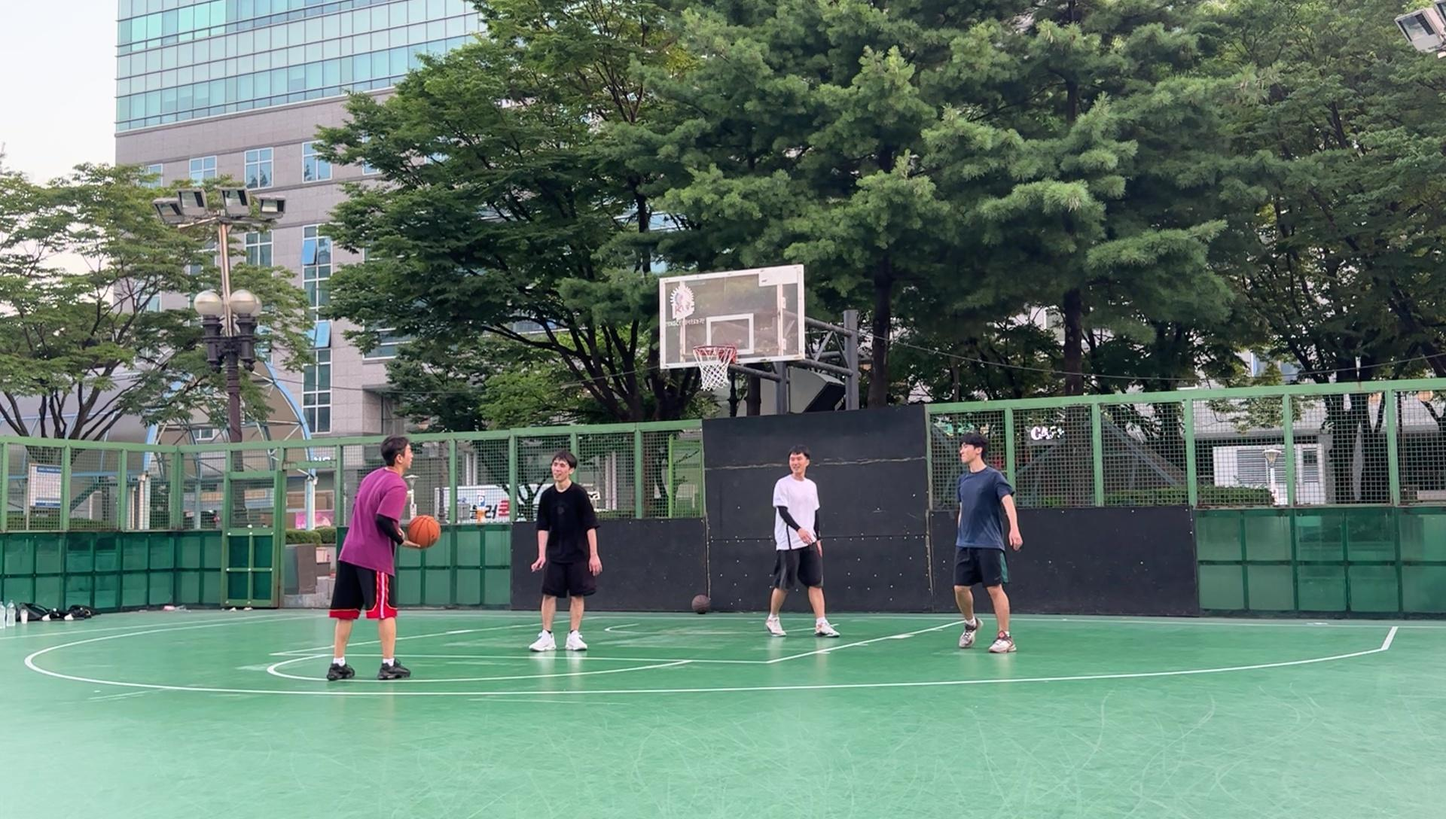ball: (407, 515, 441, 549), (691, 592, 712, 615)
human: (326, 434, 447, 681), (952, 433, 1023, 654), (764, 444, 844, 638), (528, 450, 603, 653)
rim: (692, 346, 736, 391)
